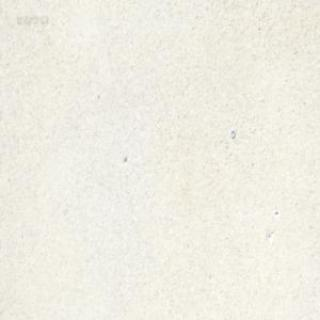Washertrack_idkeyframe: (228, 127, 234, 139)
